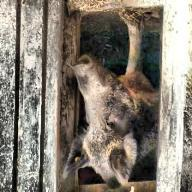boar: (67, 5, 171, 180)
